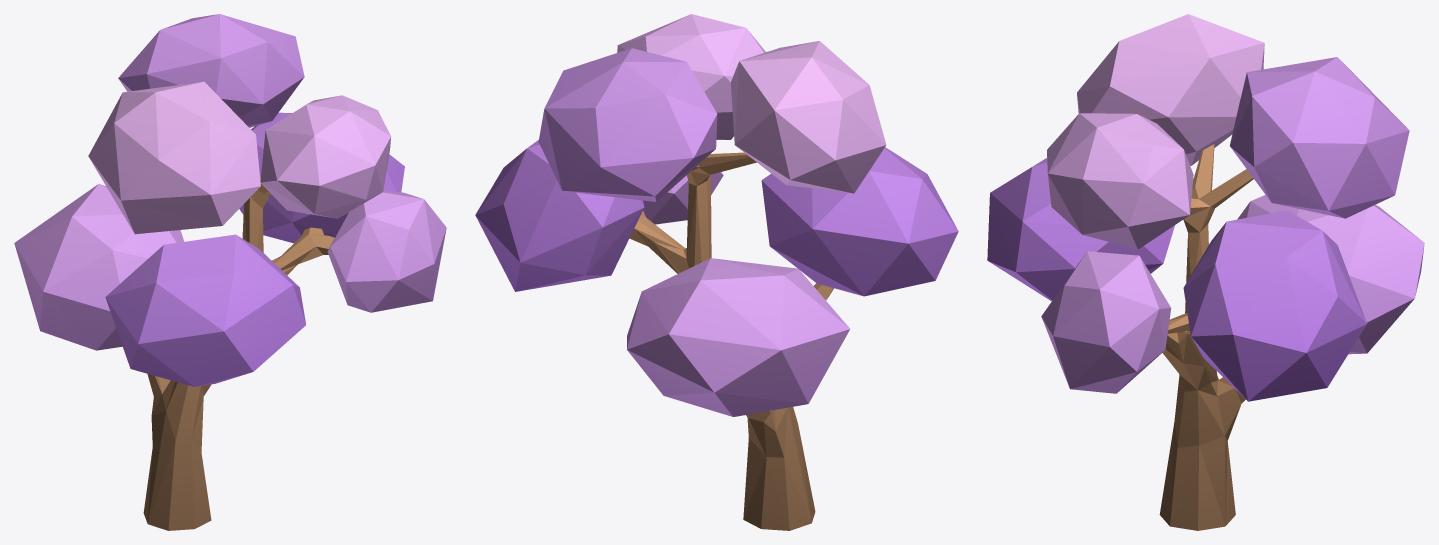
The model's file is sakura tree.fbx.
The picture shows the model from 3 angles, left to right: view 1: azimuth 30°, elevation 25°; view 2: azimuth 150°, elevation 25°; view 3: azimuth 270°, elevation 25°; orthographic projection. The views are drawn at different scales.
Parts seen in each view (by area): view 1: sakura tree; view 2: sakura tree; view 3: sakura tree.
Part boxes in pixels (left/top/right/bottom): sakura tree: left=14, top=14, right=446, bottom=530; sakura tree: left=475, top=14, right=958, bottom=530; sakura tree: left=987, top=14, right=1424, bottom=530.
Size of the model in its own units: 624 by 758 by 607.
